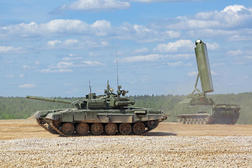t72: (23, 92, 164, 136)
